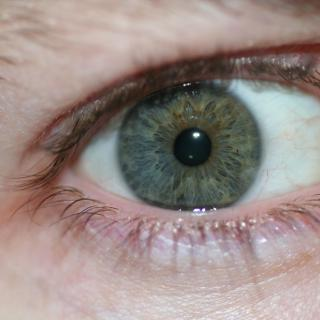pupil: (175, 130, 211, 167)
